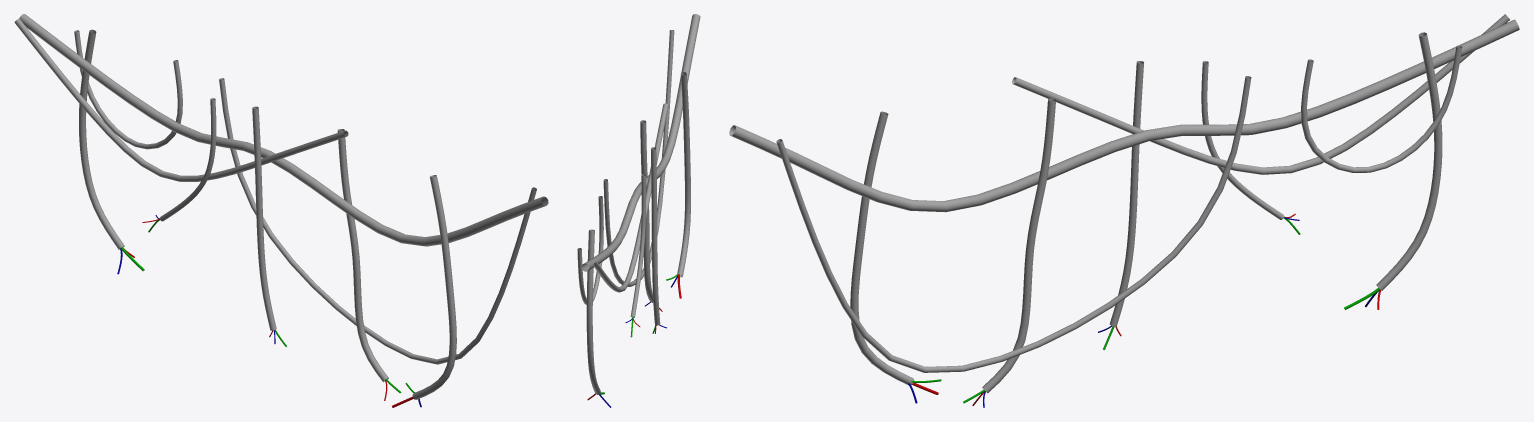
The model's file is Cables_plafond.fbx.
3 views of the same model, side by side, from view 1: azimuth 30°, elevation 25°; view 2: azimuth 150°, elevation 25°; view 3: azimuth 270°, elevation 25° (orthographic). The views are drawn at different scales.
Visible parts, largest first — view 1: Fil43, Fil142, Fil148, Fil45, Fil129, Fil131, Fil47, Fil40, Fil41; view 2: Fil43, Fil142, Fil45, Fil148, Fil131, Fil47, Fil129, Fil41, Fil40; view 3: Fil43, Fil142, Fil148, Fil129, Fil45, Fil47, Fil40, Fil131, Fil41.
Boxes of the visible parts, box(x1,y1,x2,y2) form: Fil43: box(19, 14, 548, 246); Fil142: box(219, 78, 536, 364); Fil148: box(14, 18, 348, 181); Fil45: box(412, 175, 456, 399); Fil129: box(337, 129, 388, 382); Fil131: box(252, 106, 276, 330); Fil47: box(79, 29, 124, 249); Fil40: box(74, 30, 182, 149); Fil41: box(160, 98, 216, 221); Fil43: box(581, 14, 700, 271); Fil142: box(603, 30, 674, 286); Fil45: box(677, 72, 690, 277); Fil148: box(593, 103, 668, 292); Fil131: box(651, 147, 660, 325); Fil47: box(586, 229, 600, 394); Fil129: box(640, 120, 653, 302); Fil41: box(630, 174, 645, 317); Fil40: box(577, 196, 603, 304); Fil43: box(729, 19, 1519, 212); Fil142: box(776, 76, 1251, 372); Fil148: box(1012, 14, 1509, 174); Fil129: box(982, 98, 1055, 393); Fil45: box(850, 111, 913, 385); Fil47: box(1376, 32, 1442, 290); Fil40: box(1301, 45, 1462, 172); Fil131: box(1109, 61, 1143, 326); Fil41: box(1201, 61, 1284, 219).
Bounding box in the file's own units: 2.41 × 2.76 × 6.26.
